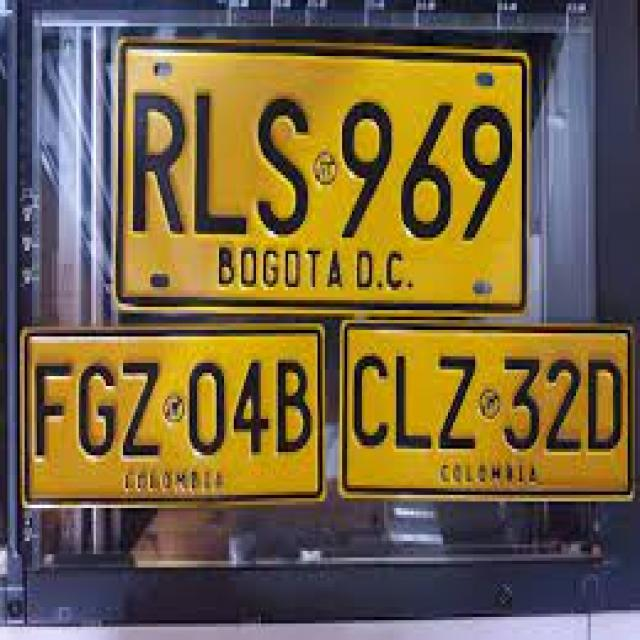placa_carro: (115, 45, 530, 310)
placa_moto: (336, 317, 635, 514), (16, 321, 323, 505)
